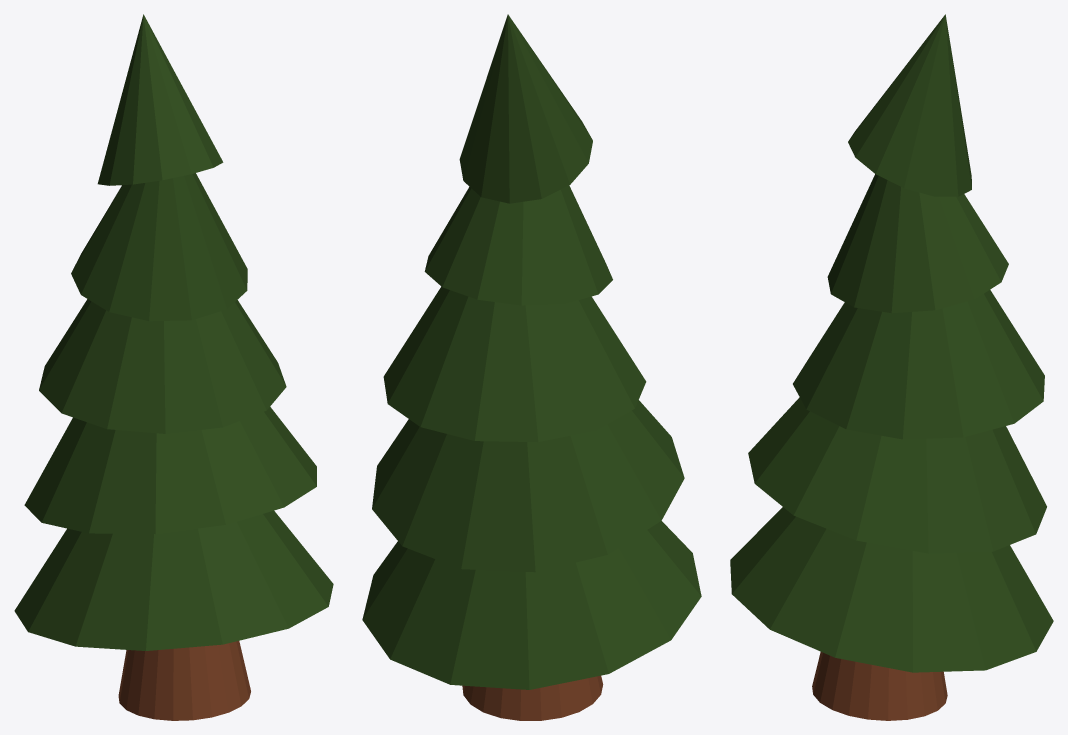
Rendered from Tree_6.glb.
3 renders of one model, left to right at view 1: azimuth 30°, elevation 25°; view 2: azimuth 150°, elevation 25°; view 3: azimuth 270°, elevation 25°, orthographic. The views are drawn at different scales.
Visible parts, largest first — view 1: Tree 6; view 2: Tree 6; view 3: Tree 6.
Part boxes in pixels (bbox=[...]): Tree 6: bbox=[14, 14, 333, 720]; Tree 6: bbox=[362, 14, 701, 720]; Tree 6: bbox=[730, 14, 1053, 720].
Size of the model in its own units: 3.43 by 7.84 by 3.39.
